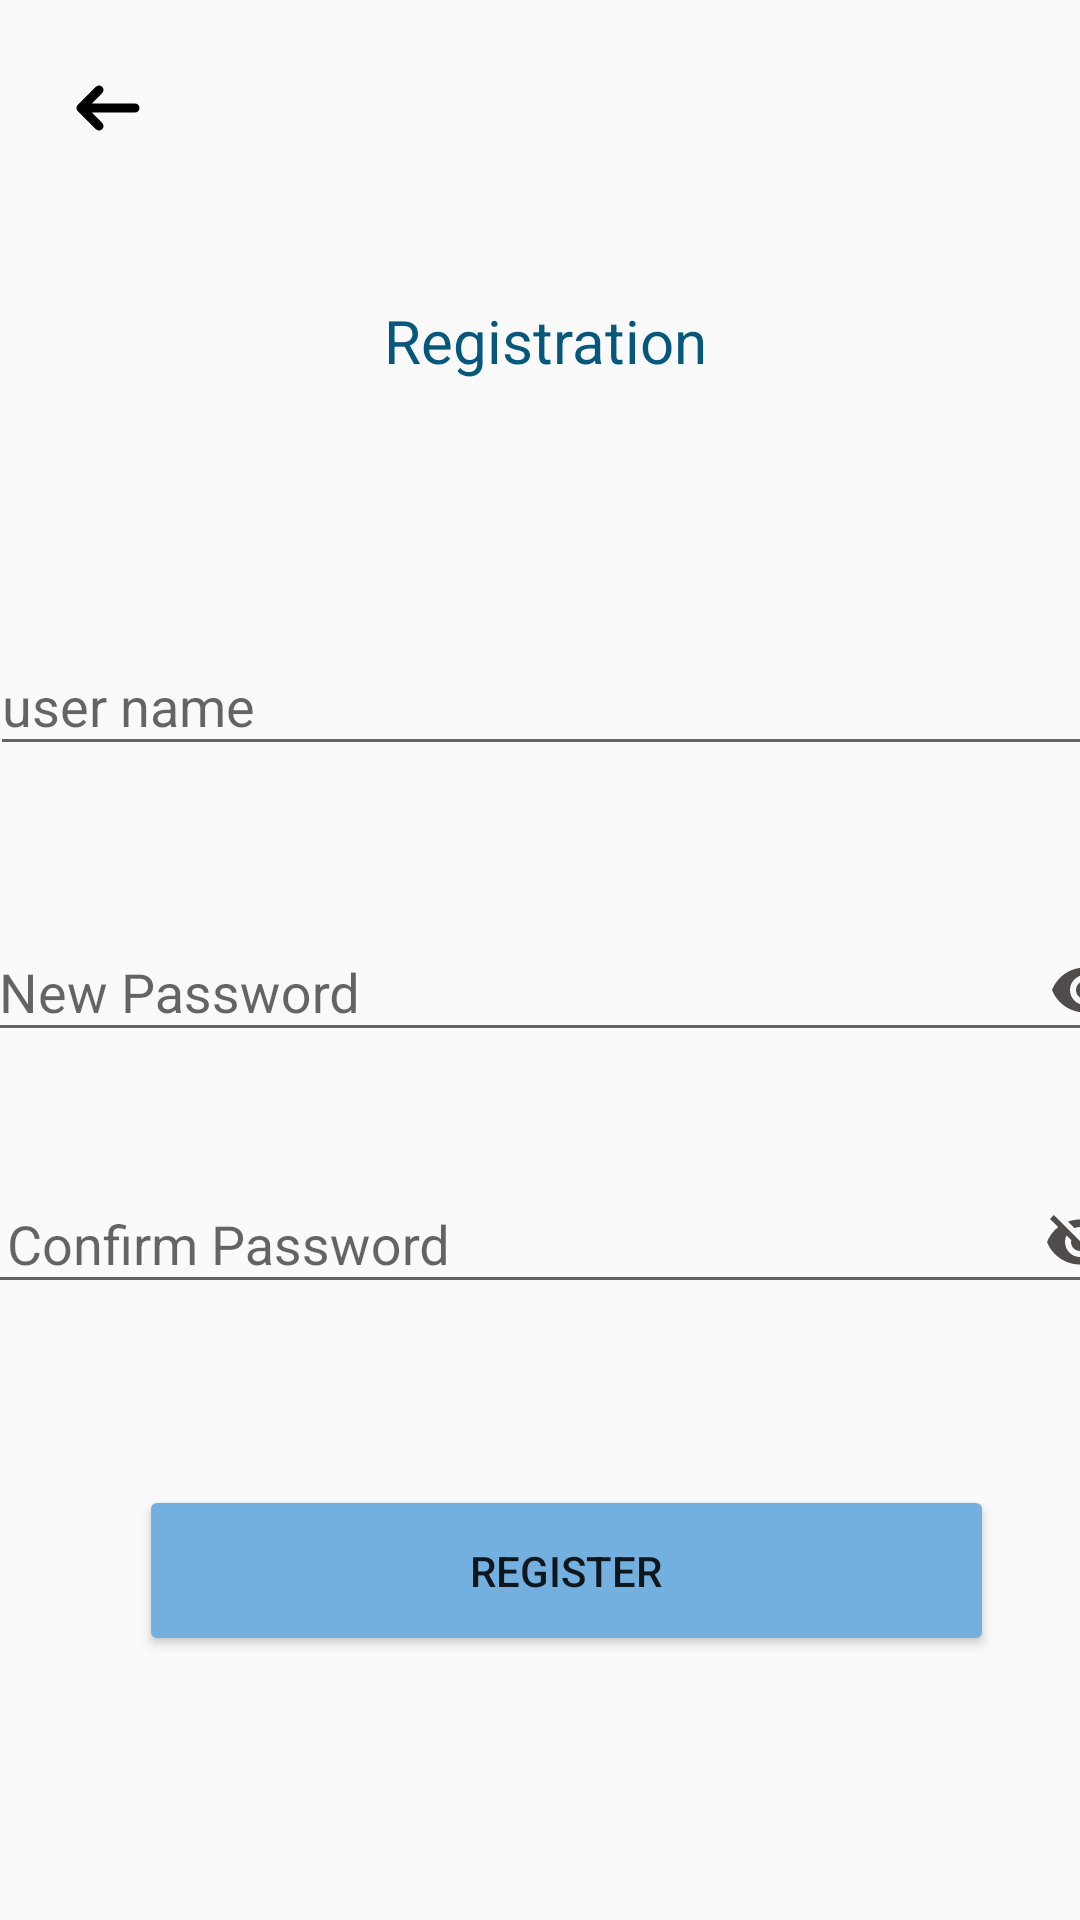

Icon bounding boxes for this 1080px x 1920px phone screenshot, format BBox(x1, y1, x2, y2):
back: BBox(76, 85, 140, 131)
